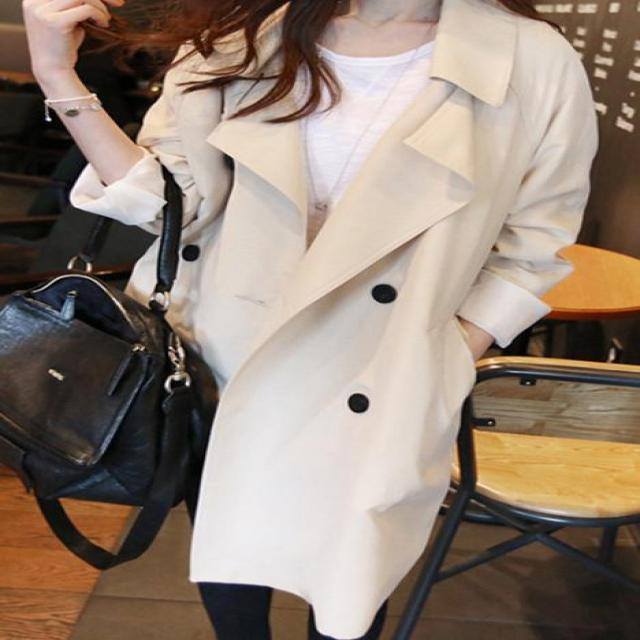long-sleeve-outwear: (143, 22, 610, 628)
